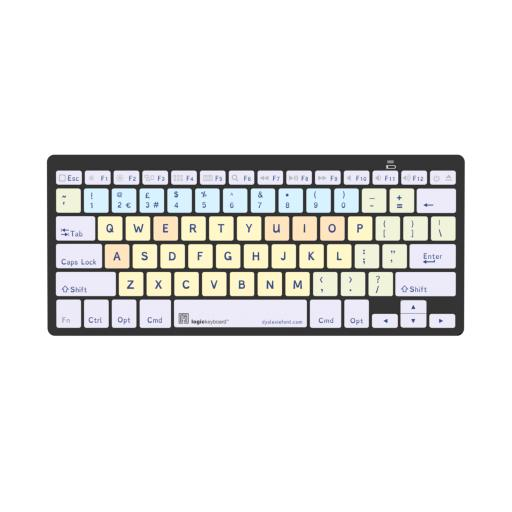KEYBOARD-2: (36, 142, 474, 345)
